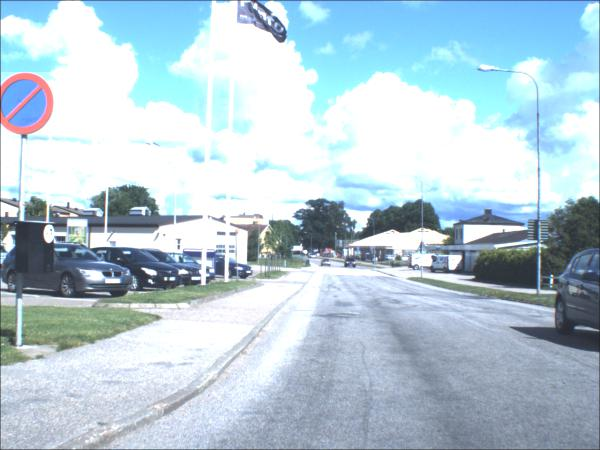NO_PARKING: (1, 73, 55, 137)
PRIORITY_ROAD: (304, 251, 308, 256)
